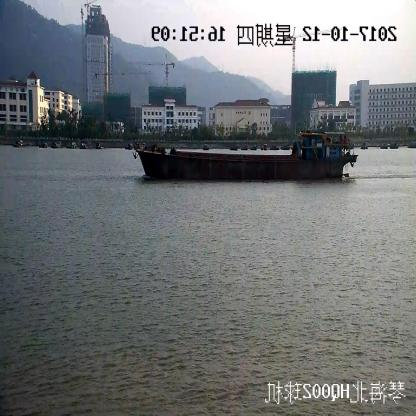Bulk Carrier: (135, 130, 356, 182)
